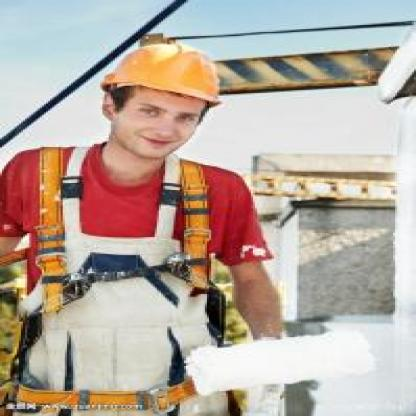helmet: (82, 28, 238, 166)
